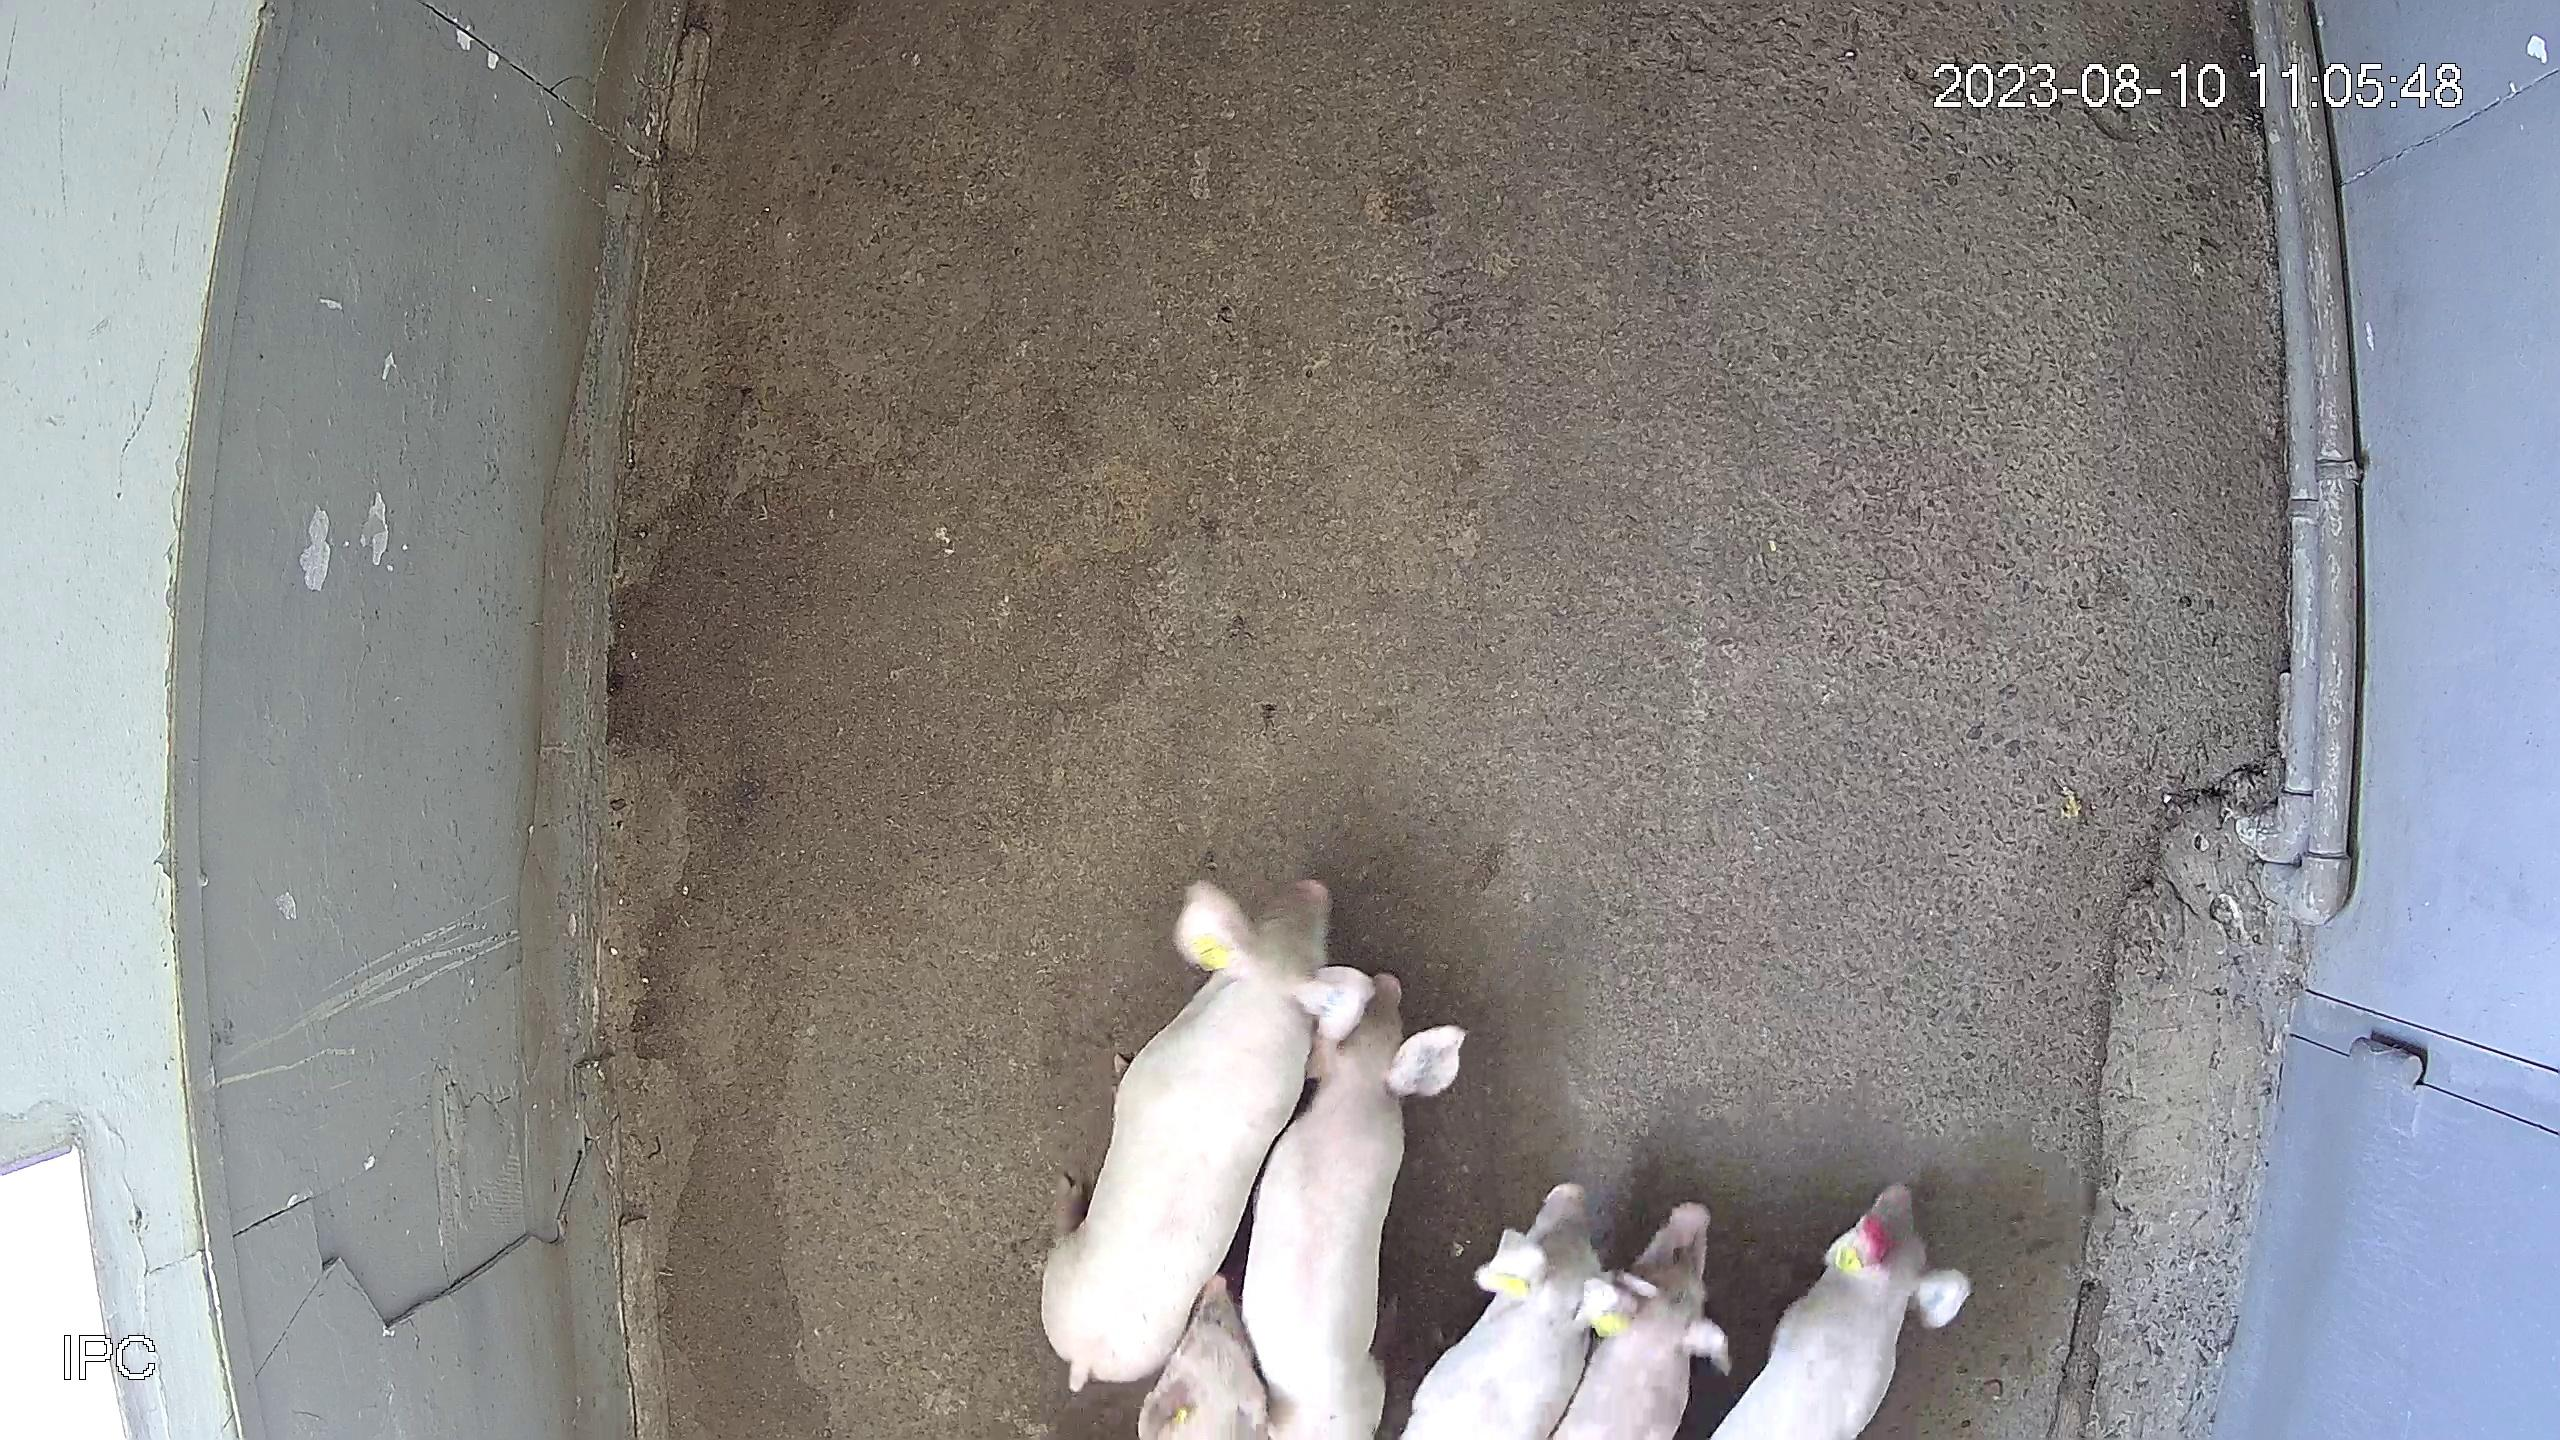Pig: (1043, 879, 1377, 1393), (1241, 972, 1466, 1440), (1714, 1183, 1975, 1440), (1405, 1183, 1602, 1440), (1554, 1204, 1734, 1440), (1139, 1276, 1269, 1440)
